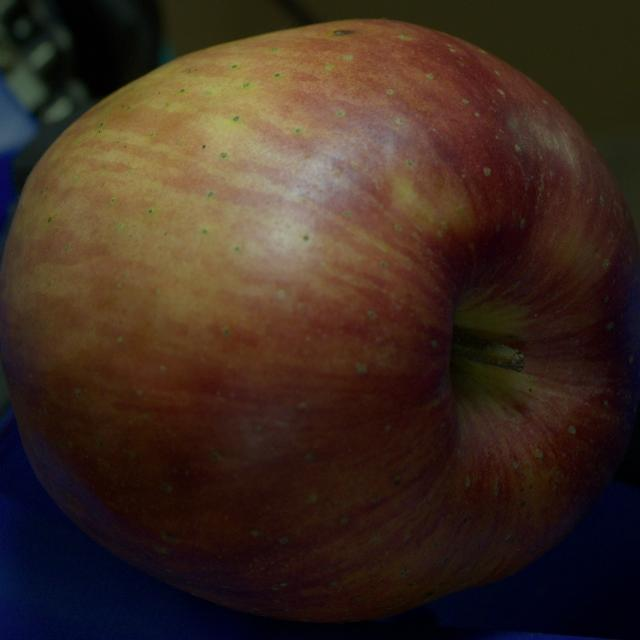apple: (0, 20, 639, 621)
pest: (333, 29, 354, 35)
